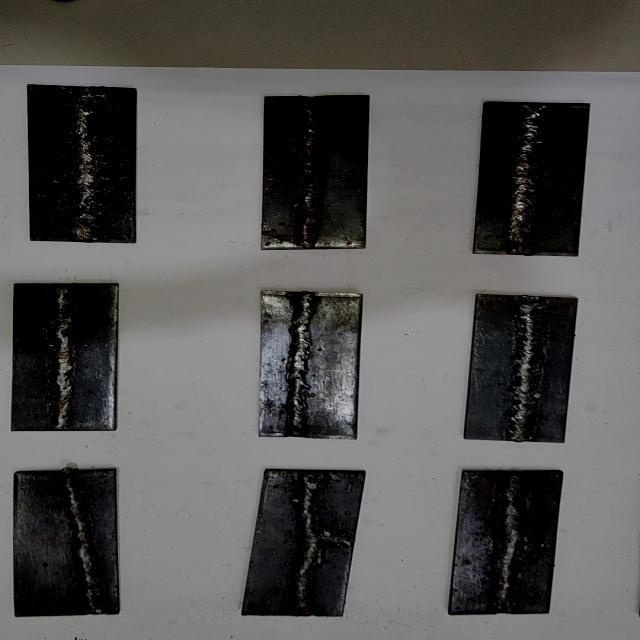Defect: (296, 98, 325, 222), (487, 528, 540, 558), (286, 527, 358, 548), (64, 197, 109, 225), (62, 91, 112, 116), (40, 296, 78, 322), (293, 473, 338, 486)
Welding Line: (506, 106, 550, 253), (58, 472, 104, 611), (506, 299, 546, 440), (494, 472, 532, 612), (67, 87, 101, 240), (47, 286, 75, 428), (295, 471, 320, 613), (287, 294, 312, 434), (302, 97, 318, 245)
Workpiece: (239, 466, 369, 618), (471, 100, 594, 258), (26, 83, 139, 244), (460, 293, 580, 444), (446, 469, 566, 616), (258, 94, 368, 250), (11, 467, 124, 618), (11, 282, 120, 432), (257, 289, 364, 441)
